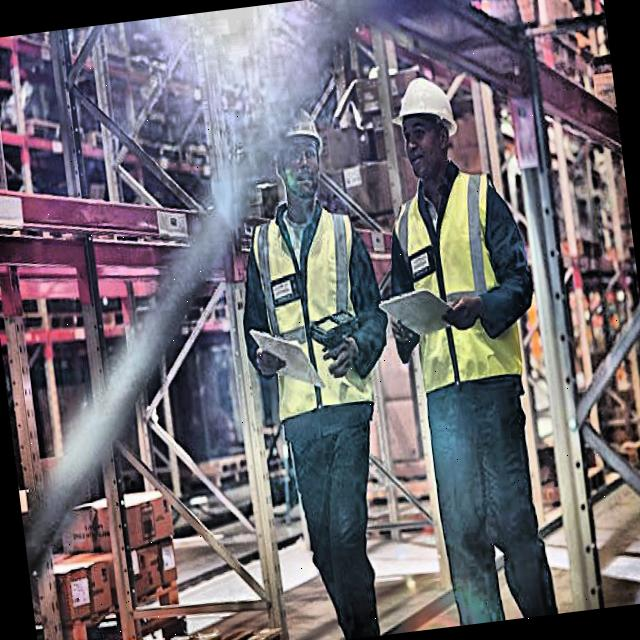helmet: (392, 75, 461, 180), (265, 102, 330, 206)
